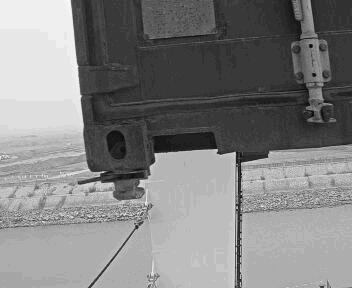twist_lock_1: (167, 157, 231, 199)
